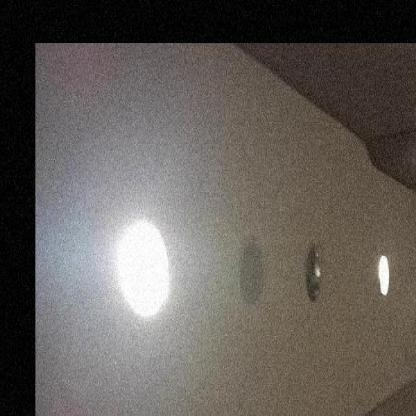light_off: (297, 220, 330, 316), (410, 246, 415, 305)
